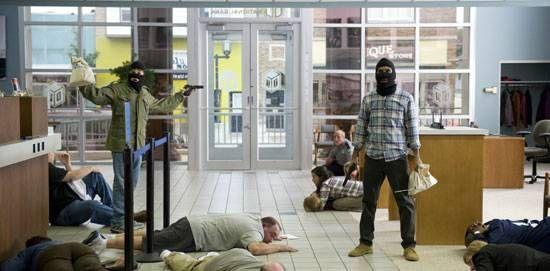criminal: (55, 57, 206, 233), (341, 57, 440, 262)
weapon: (341, 162, 358, 188), (181, 83, 205, 97)
